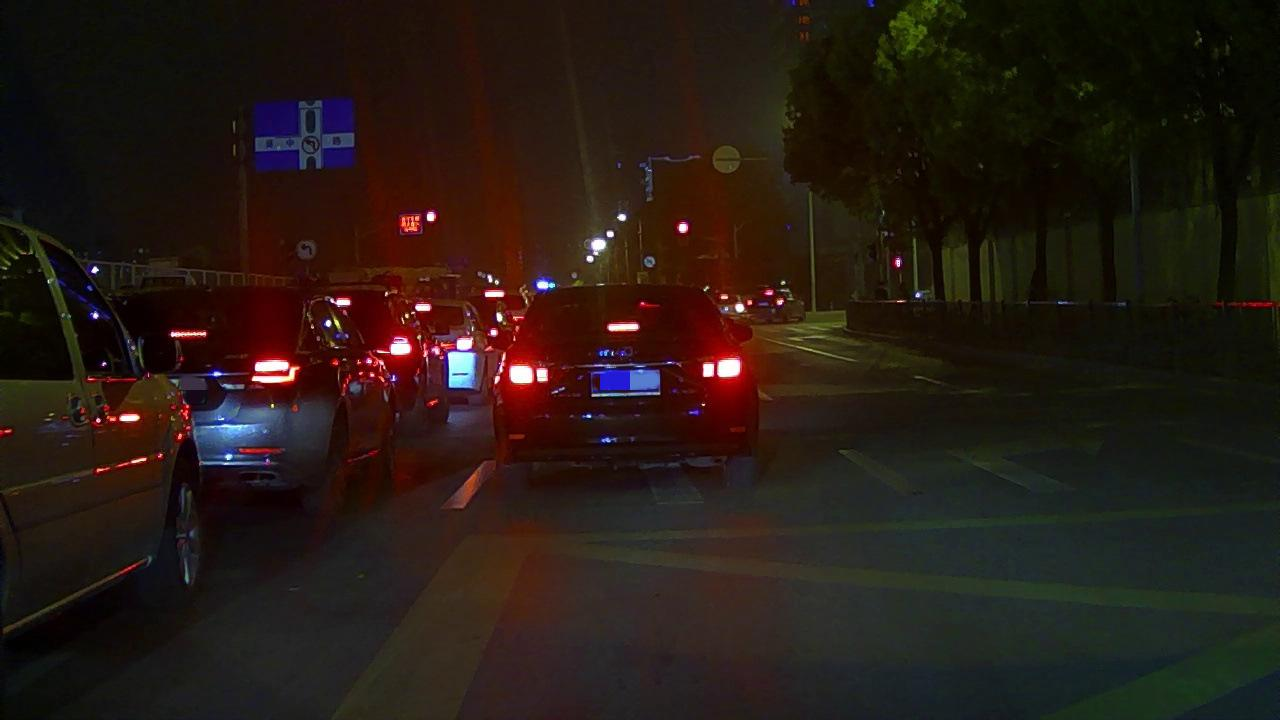traffic_light: (676, 221, 687, 236), (426, 211, 436, 221)
